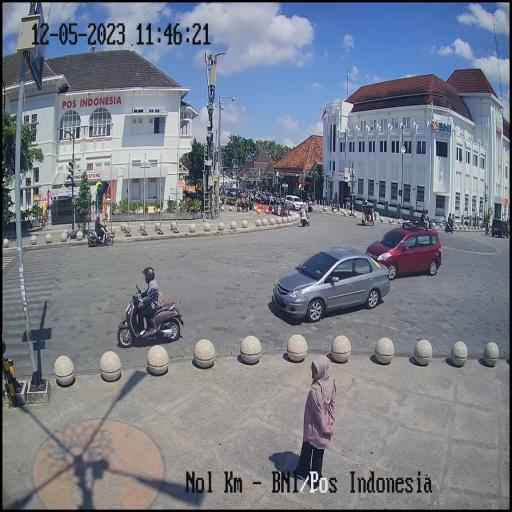mobil: (270, 246, 394, 326), (363, 218, 443, 281)
motor: (117, 284, 183, 350)
